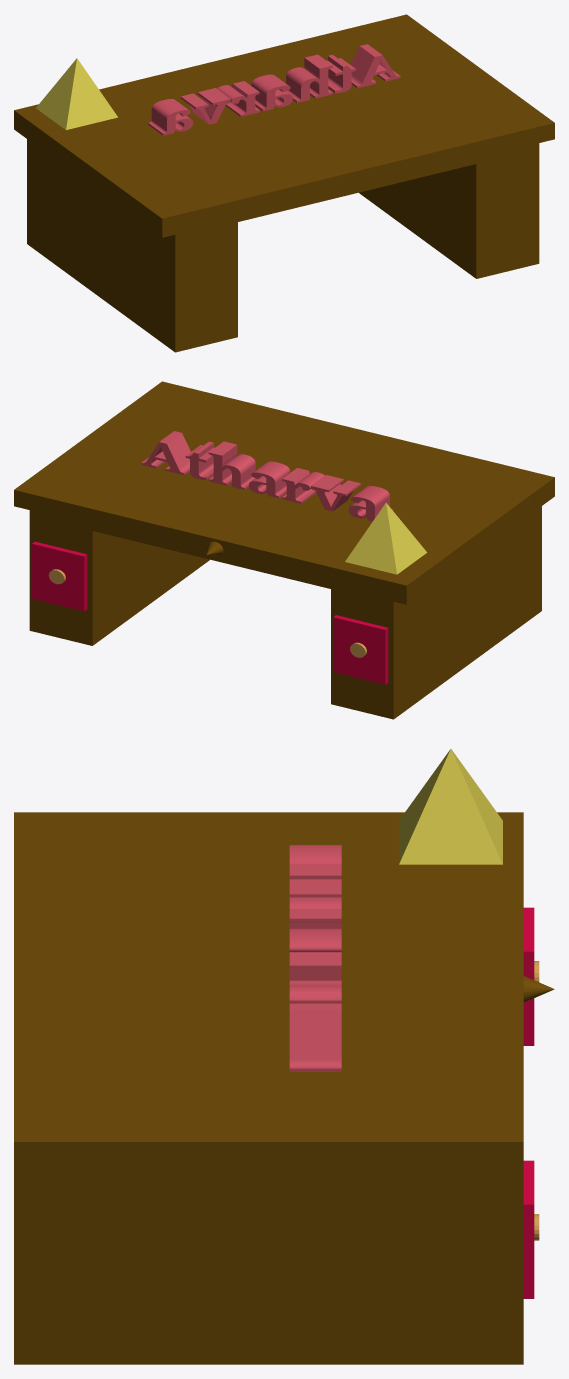
File: Side Table.glb
3 views of the same model, one above another, from view 1: azimuth 30°, elevation 25°; view 2: azimuth 150°, elevation 25°; view 3: azimuth 270°, elevation 25° (orthographic). The views are drawn at different scales.
Visible parts, largest first — view 1: Mesh_Mesh_head_geo.001_lambert2SG.001; view 2: Mesh_Mesh_head_geo.001_lambert2SG.001; view 3: Mesh_Mesh_head_geo.001_lambert2SG.001.
Part boxes in pixels (box(x1,y1,x2,y2)): Mesh_Mesh_head_geo.001_lambert2SG.001: box(14, 14, 554, 352); Mesh_Mesh_head_geo.001_lambert2SG.001: box(14, 381, 554, 719); Mesh_Mesh_head_geo.001_lambert2SG.001: box(14, 749, 554, 1364).
Bounding box in the file's own units: 150 × 71 × 104.
